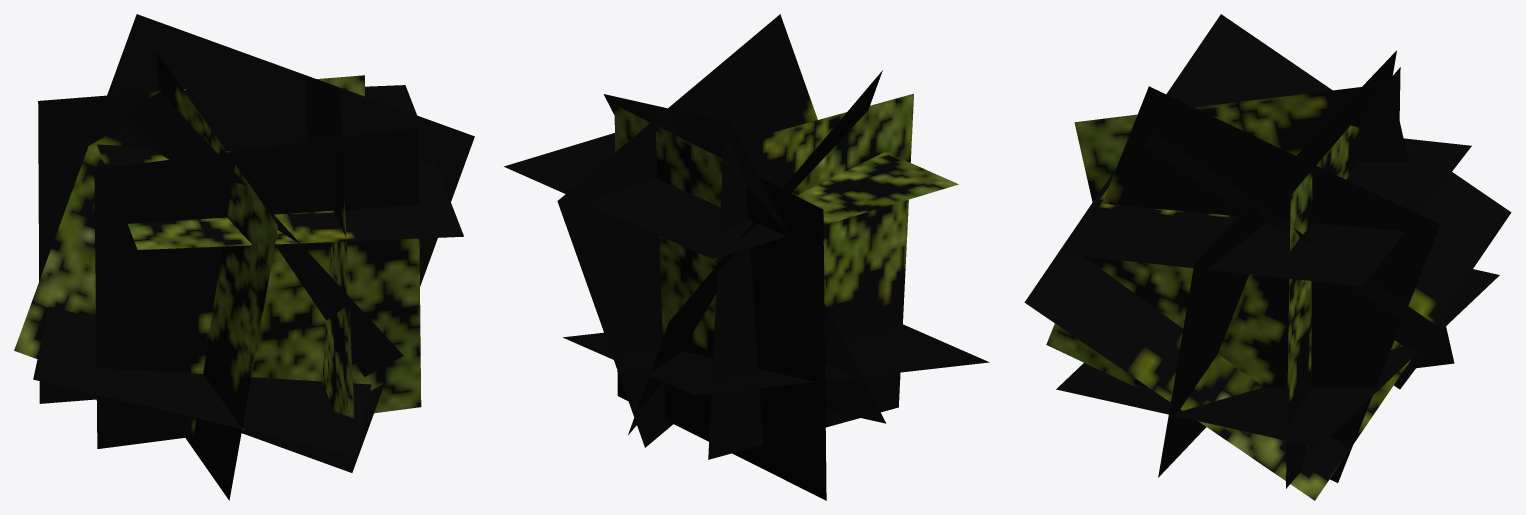
The model's file is chestnut_leaves_yellowish.obj.
3 views of the same model, side by side, from view 1: azimuth 30°, elevation 25°; view 2: azimuth 150°, elevation 25°; view 3: azimuth 270°, elevation 25° (orthographic). The views are drawn at different scales.
Parts seen in each view (by area): view 1: south, east, bottom, west, top, north; view 2: east, north, west, top, bottom, south; view 3: east, south, top, west, bottom, north.
Part boxes in pixels (box(x1,y1,x2,y2)): south: box(94, 92, 421, 448); east: box(14, 14, 474, 472); bottom: box(33, 306, 371, 455); west: box(156, 51, 278, 500); top: box(97, 85, 463, 249); north: box(38, 75, 364, 403); east: box(557, 14, 886, 447); north: box(614, 105, 826, 500); west: box(708, 93, 913, 459); top: box(504, 133, 958, 258); bottom: box(563, 324, 989, 395); south: box(628, 70, 882, 434); east: box(1046, 50, 1440, 482); south: box(1024, 14, 1511, 500); top: box(1058, 138, 1471, 286); west: box(1074, 83, 1454, 389); bottom: box(1056, 269, 1499, 447); north: box(1286, 67, 1400, 488).
Bounding box in the file's own units: 2.27 × 1.98 × 2.25.
